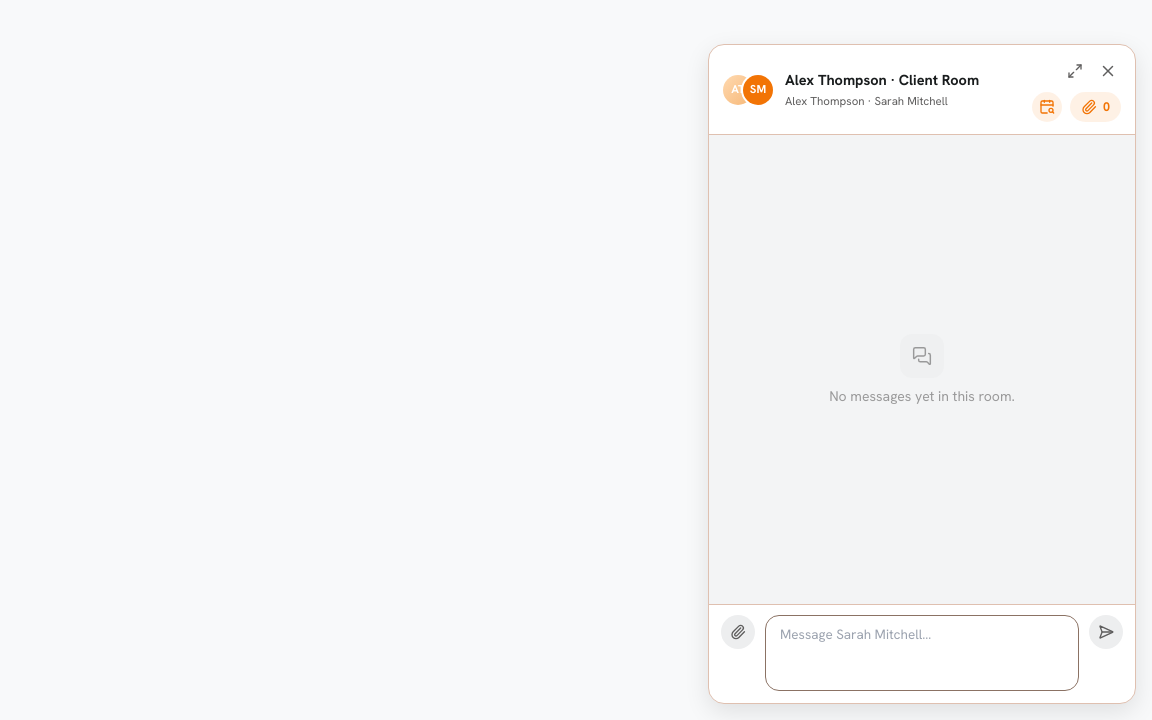
Test: positive › the maximise toggle swaps geometry to inset:0 and swaps Maximize2 for Minimize2
The width and height of the screenshot is (1152, 720).
Click the button named "maximize panel" at (1075, 71), box left=1063, top=59, right=1087, bottom=83
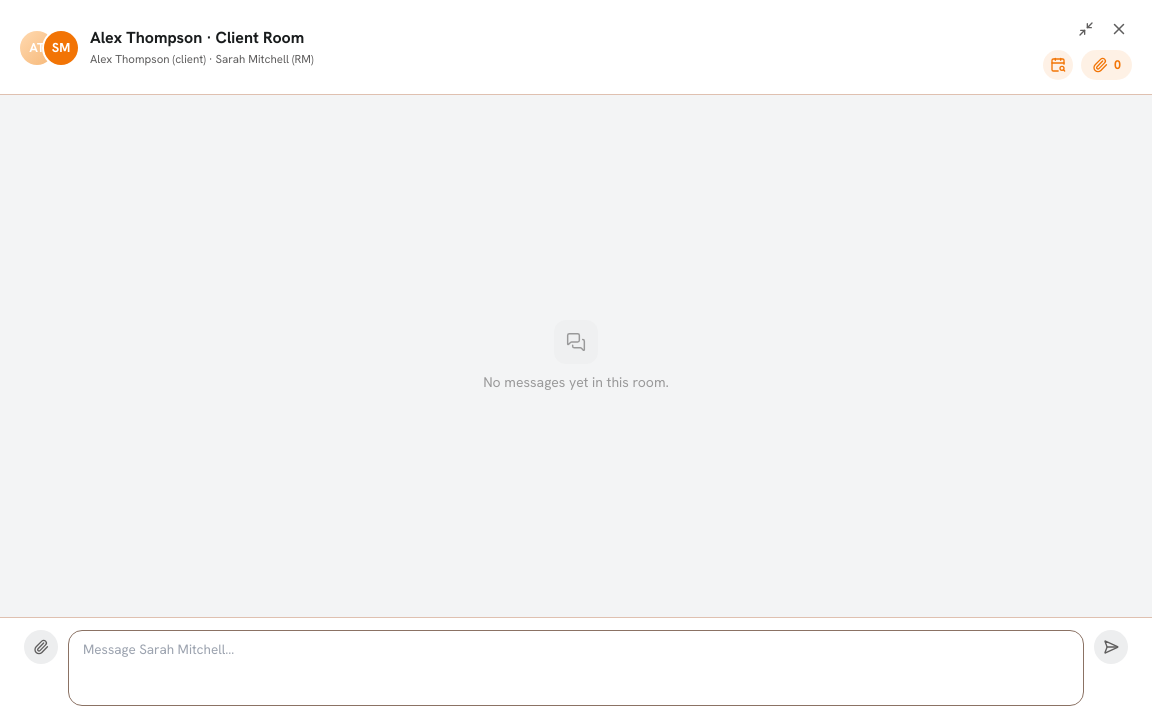
Check: the button named "restore panel" is shown, box left=1074, top=17, right=1098, bottom=41
